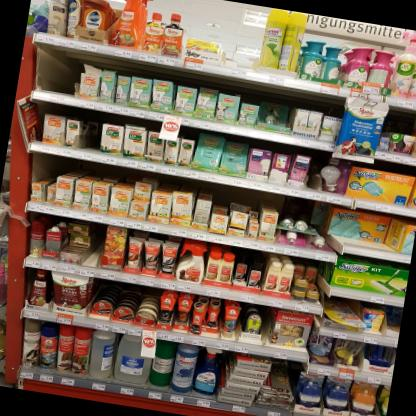empty_space: (33, 54, 77, 98), (76, 127, 101, 154)
